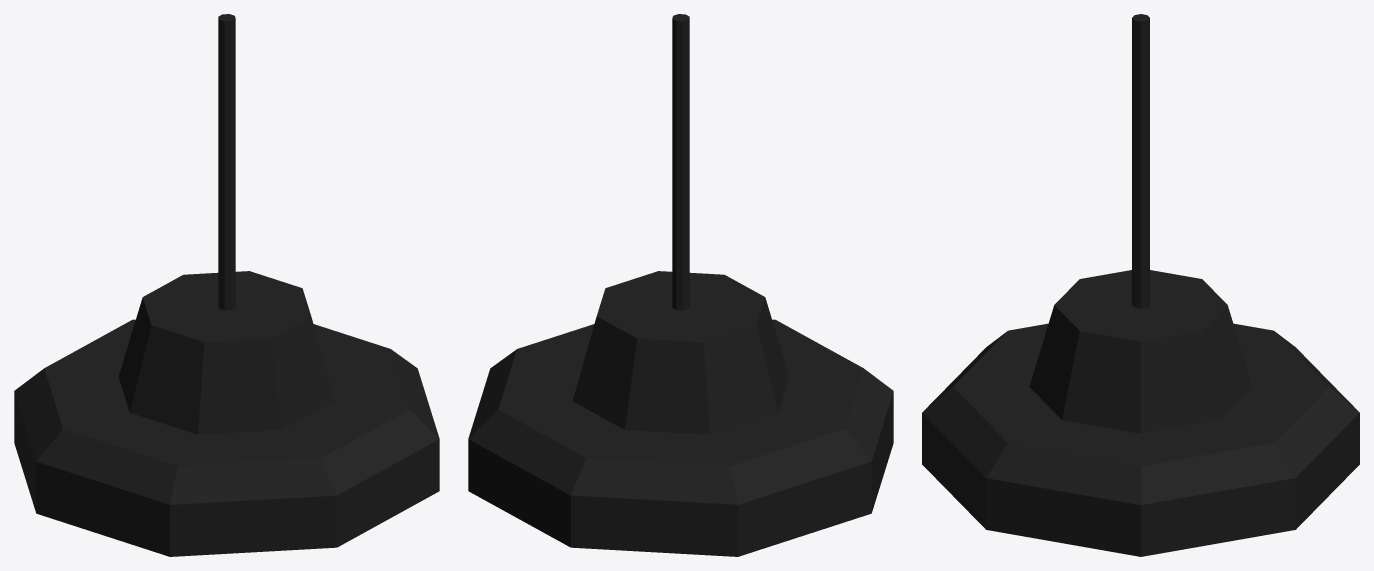
Rendered from Lamp.fbx.
3 renders of one model, left to right at view 1: azimuth 30°, elevation 25°; view 2: azimuth 150°, elevation 25°; view 3: azimuth 270°, elevation 25°, orthographic.
Visible parts, largest first — view 1: Low Poly Lamp; view 2: Low Poly Lamp; view 3: Low Poly Lamp.
Part boxes in pixels (x1=…): Low Poly Lamp: x1=14, y1=14, x2=439, y2=556; Low Poly Lamp: x1=468, y1=14, x2=893, y2=556; Low Poly Lamp: x1=922, y1=14, x2=1359, y2=556.
Bounding box in the file's own units: 82.69 × 93.1 × 82.69.
Materials: 1 (1 with a texture image).
